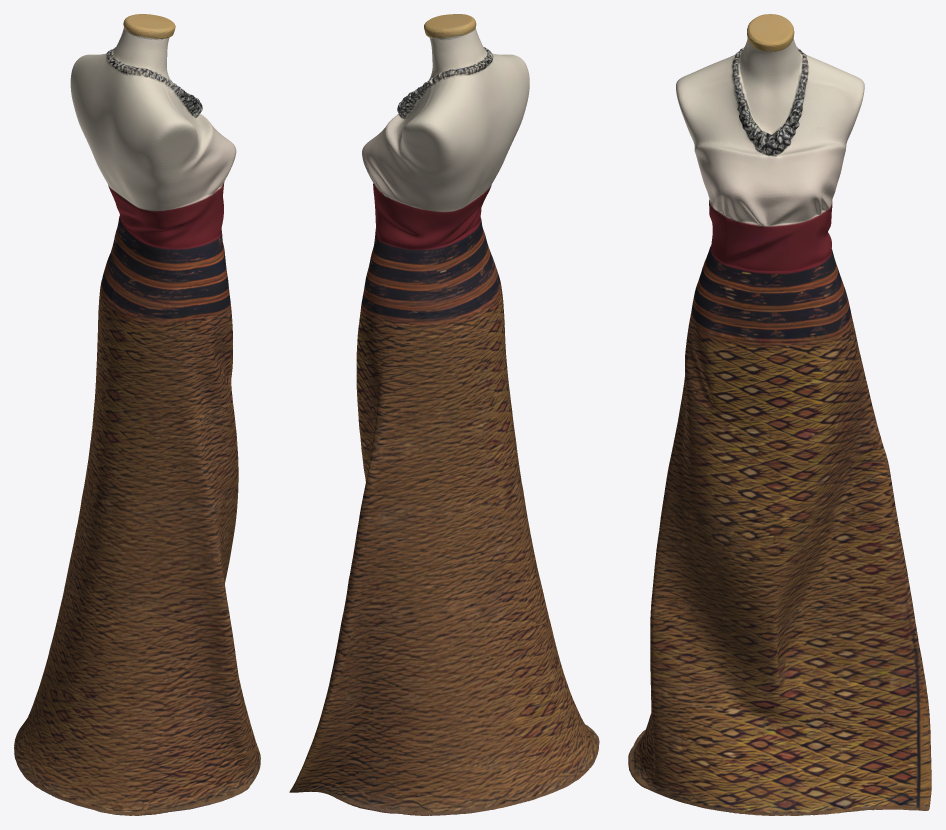
Rendered from thai_silk_pattern_5.glb.
3 views of the same model, side by side, from view 1: azimuth 30°, elevation 25°; view 2: azimuth 150°, elevation 25°; view 3: azimuth 270°, elevation 25° (orthographic).
Visible parts, largest first — view 1: tripo_node_d7de12a5-a5a9-4aec-8156-0d6af15d92dd; view 2: tripo_node_d7de12a5-a5a9-4aec-8156-0d6af15d92dd; view 3: tripo_node_d7de12a5-a5a9-4aec-8156-0d6af15d92dd.
Part boxes in pixels (left/top/right/bottom): tripo_node_d7de12a5-a5a9-4aec-8156-0d6af15d92dd: left=14, top=14, right=260, bottom=815; tripo_node_d7de12a5-a5a9-4aec-8156-0d6af15d92dd: left=289, top=14, right=599, bottom=815; tripo_node_d7de12a5-a5a9-4aec-8156-0d6af15d92dd: left=628, top=14, right=931, bottom=815.
Bounding box in the file's own units: 0.3066 × 0.9977 × 0.3678.
1 material, 1 textured.
